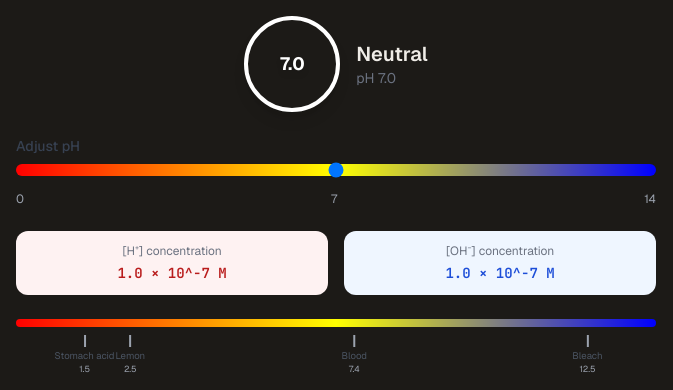
Scenario: PHScale › updates slider value on change
This screenshot has width=673, height=390.
Set the slider to "3" at x=158, y=170, box [16,164,656,176]
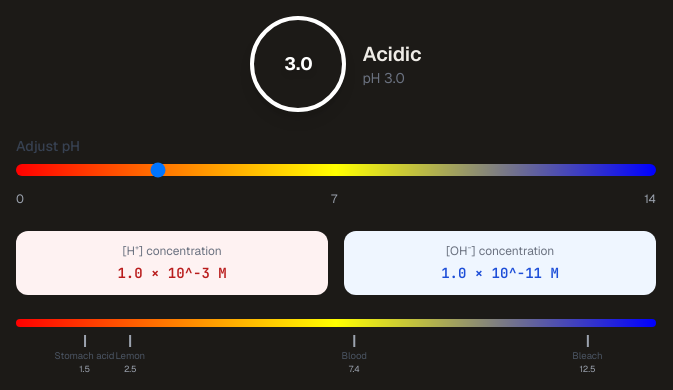
Now the slider has attribute aria-valuenow="3", box [16,164,656,176]
